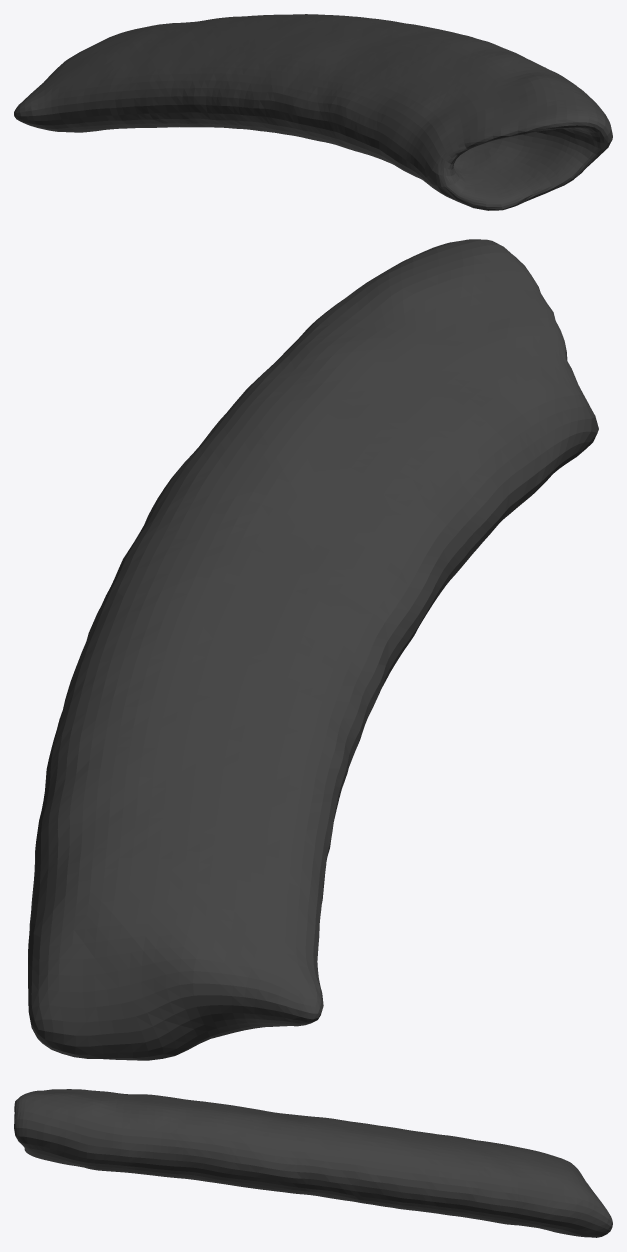
Rendered from tooth_rabbit_111_low.glb.
3 views of the same model, one above another, from view 1: azimuth 30°, elevation 25°; view 2: azimuth 150°, elevation 25°; view 3: azimuth 270°, elevation 25° (orthographic). The views are drawn at different scales.
Parts seen in each view (by area): view 1: tooth_rabbit_111_low; view 2: tooth_rabbit_111_low; view 3: tooth_rabbit_111_low.
Part boxes in pixels (box(x1,y1,x2,y2)): tooth_rabbit_111_low: box(14, 14, 612, 210); tooth_rabbit_111_low: box(28, 239, 598, 1060); tooth_rabbit_111_low: box(14, 1089, 612, 1237).
Size of the model in its own units: 0.3084 by 0.2358 by 0.707.
1 material, 1 textured.
